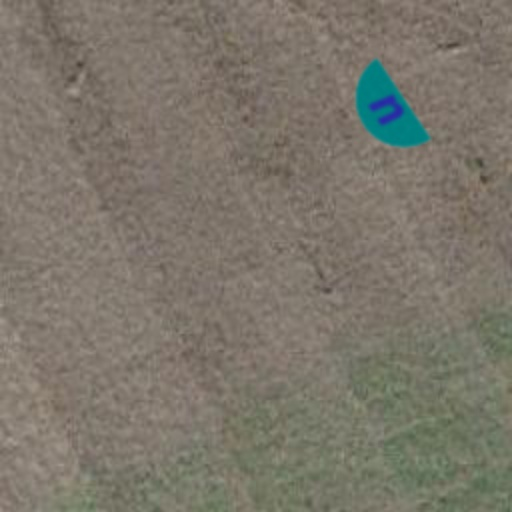semicircle: (316, 44, 452, 180)
